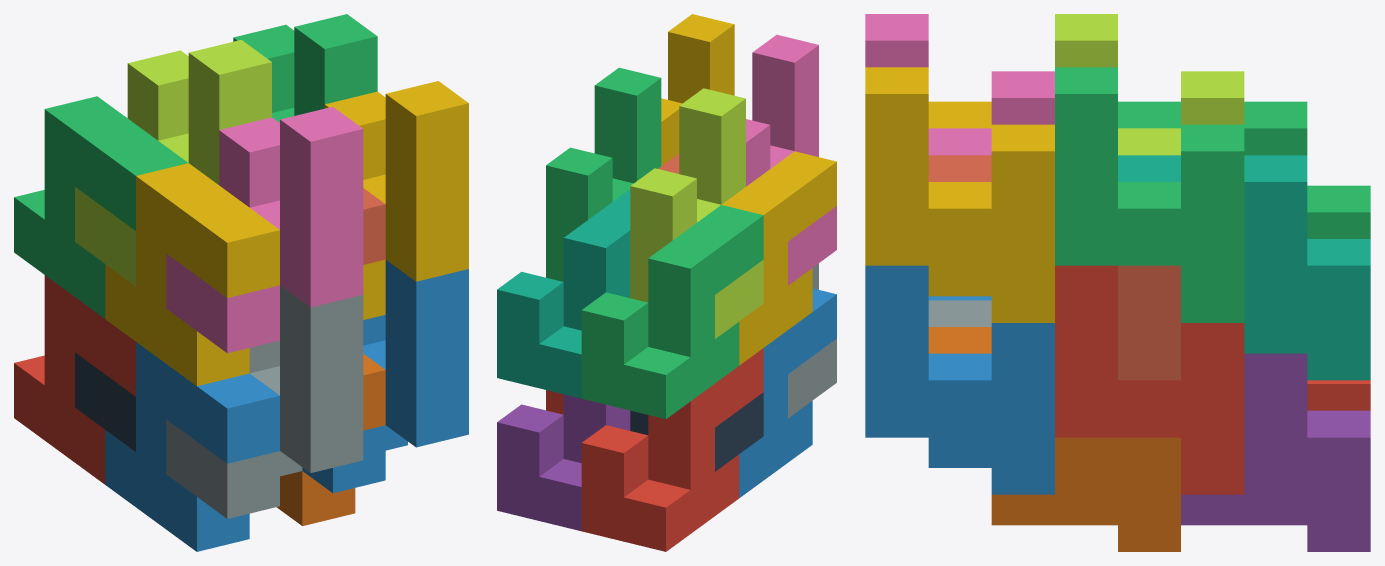
Rendered from tiling.obj.
The picture shows the model from 3 angles, left to right: view 1: azimuth 30°, elevation 25°; view 2: azimuth 150°, elevation 25°; view 3: azimuth 270°, elevation 25°; orthographic projection. The views are drawn at different scales.
Parts seen in each view (by area): view 1: copy_2_domain_4, copy_2_domain_2, copy_1_domain_4, copy_2_domain_8, copy_1_domain_2, copy_2_domain_6, copy_1_domain_3, copy_2_domain_3, copy_1_domain_1, copy_2_domain_7, copy_1_domain_6, copy_2_domain_1 (+1 smaller); view 2: copy_1_domain_3, copy_1_domain_1, copy_1_domain_7, copy_2_domain_3, copy_2_domain_7, copy_1_domain_5, copy_1_domain_4, copy_2_domain_4, copy_1_domain_2, copy_2_domain_8, copy_2_domain_1, copy_2_domain_2; view 3: copy_2_domain_8, copy_2_domain_7, copy_2_domain_6, copy_2_domain_5, copy_1_domain_7, copy_1_domain_5, copy_1_domain_6, copy_1_domain_8, copy_1_domain_3, copy_2_domain_4, copy_2_domain_3, copy_1_domain_1 (+2 smaller).
Boxes of the visible parts, <box> form: copy_2_domain_4: <box>166,106,363,353</box>; copy_2_domain_2: <box>166,285,363,518</box>; copy_1_domain_4: <box>105,163,279,385</box>; copy_2_domain_8: <box>324,81,468,319</box>; copy_1_domain_2: <box>105,342,279,551</box>; copy_2_domain_6: <box>302,260,468,493</box>; copy_1_domain_3: <box>14,96,187,318</box>; copy_2_domain_3: <box>75,40,271,285</box>; copy_1_domain_1: <box>14,275,135,484</box>; copy_2_domain_7: <box>233,14,377,122</box>; copy_1_domain_6: <box>276,354,385,525</box>; copy_2_domain_1: <box>75,352,135,451</box>; copy_1_domain_3: <box>581,205,763,418</box>; copy_1_domain_1: <box>581,348,763,551</box>; copy_1_domain_7: <box>497,189,630,398</box>; copy_2_domain_3: <box>630,88,763,338</box>; copy_2_domain_7: <box>546,67,661,281</box>; copy_1_domain_5: <box>497,394,630,531</box>; copy_1_domain_4: <box>721,151,836,365</box>; copy_2_domain_4: <box>746,34,836,285</box>; copy_1_domain_2: <box>739,288,836,497</box>; copy_2_domain_8: <box>661,14,734,165</box>; copy_2_domain_1: <box>630,392,763,471</box>; copy_2_domain_2: <box>788,263,836,418</box>; copy_2_domain_8: <box>865,67,1054,322</box>; copy_2_domain_7: <box>1055,67,1244,322</box>; copy_2_domain_6: <box>865,265,1054,494</box>; copy_2_domain_5: <box>1055,265,1244,494</box>; copy_1_domain_7: <box>1118,155,1370,380</box>; copy_1_domain_5: <box>1181,353,1370,551</box>; copy_1_domain_6: <box>928,327,1180,551</box>; copy_1_domain_8: <box>928,155,1180,380</box>; copy_1_domain_3: <box>1118,101,1370,238</box>; copy_2_domain_4: <box>865,14,1054,155</box>; copy_2_domain_3: <box>1055,14,1244,155</box>; copy_1_domain_1: <box>1307,380,1370,410</box>.
Bounding box in the file's own units: 4 × 8 × 8.
